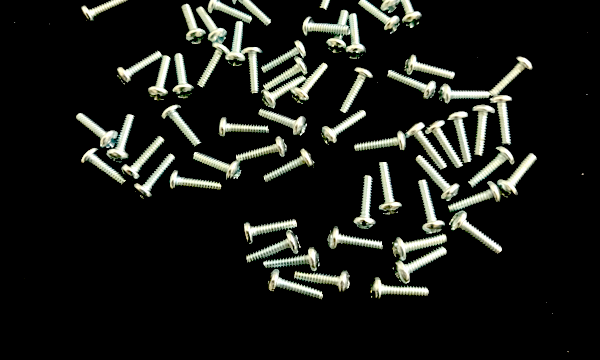shortscrew: (450, 211, 505, 256), (392, 247, 449, 286), (415, 155, 461, 202), (133, 153, 177, 202), (466, 147, 516, 189), (404, 122, 448, 169), (121, 136, 165, 183), (245, 230, 302, 266), (263, 148, 316, 186), (487, 56, 534, 98), (497, 153, 539, 200), (161, 105, 204, 150), (80, 148, 128, 187), (115, 50, 164, 88), (426, 120, 464, 169), (321, 109, 368, 147), (269, 270, 324, 302), (75, 112, 119, 151), (387, 68, 437, 102), (448, 182, 501, 214), (294, 268, 352, 297), (328, 225, 384, 255), (370, 277, 430, 305), (196, 43, 230, 92), (193, 151, 243, 184), (291, 62, 329, 105), (261, 76, 307, 111), (392, 234, 448, 262), (259, 108, 308, 140), (340, 68, 374, 114), (264, 56, 310, 90), (262, 40, 308, 74), (359, 0, 402, 36), (417, 180, 445, 235), (243, 219, 298, 246), (377, 163, 404, 217), (405, 55, 457, 82), (447, 111, 474, 163), (352, 175, 377, 231), (264, 247, 320, 272), (236, 136, 289, 162), (107, 115, 135, 164), (169, 169, 223, 194), (354, 130, 407, 155), (196, 6, 228, 47), (80, 0, 130, 26), (490, 95, 515, 146), (145, 55, 171, 104), (208, 0, 255, 27), (438, 84, 490, 108), (179, 3, 208, 46), (472, 105, 496, 156), (218, 116, 269, 140), (232, 0, 273, 28), (173, 53, 197, 100), (325, 10, 349, 57), (345, 13, 367, 61), (225, 21, 247, 68), (302, 17, 350, 38), (394, 0, 423, 30), (365, 0, 400, 13), (318, 0, 346, 13)
